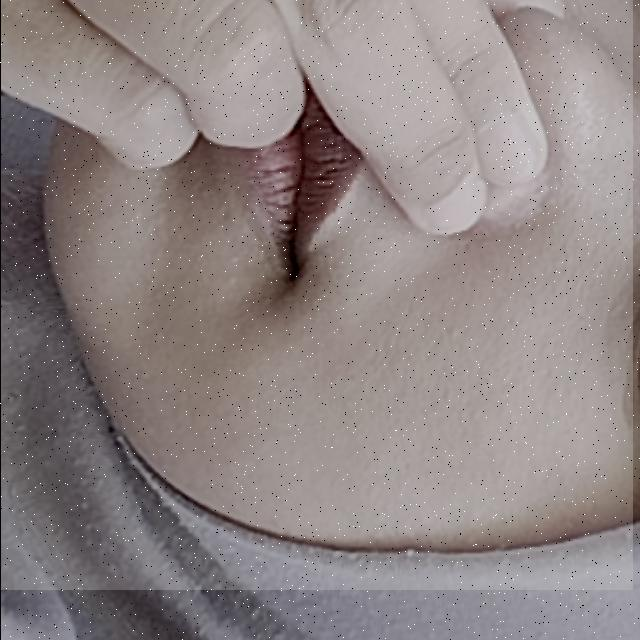bau: (0, 0, 632, 590)
